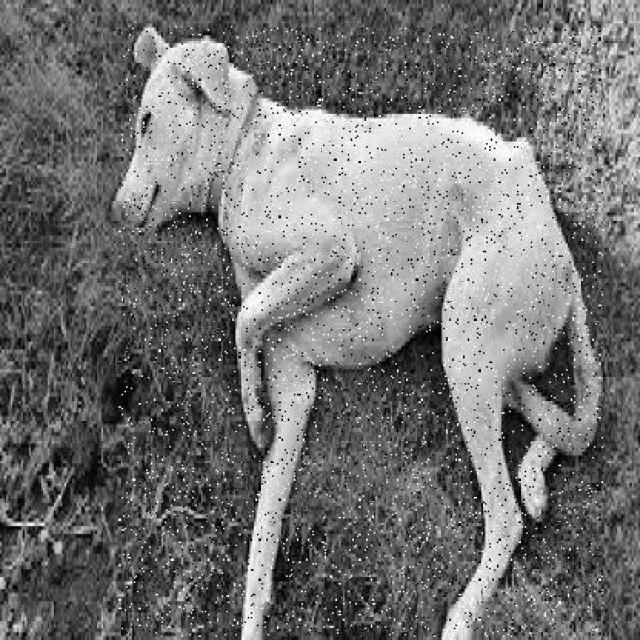Dog: (118, 26, 604, 639)
